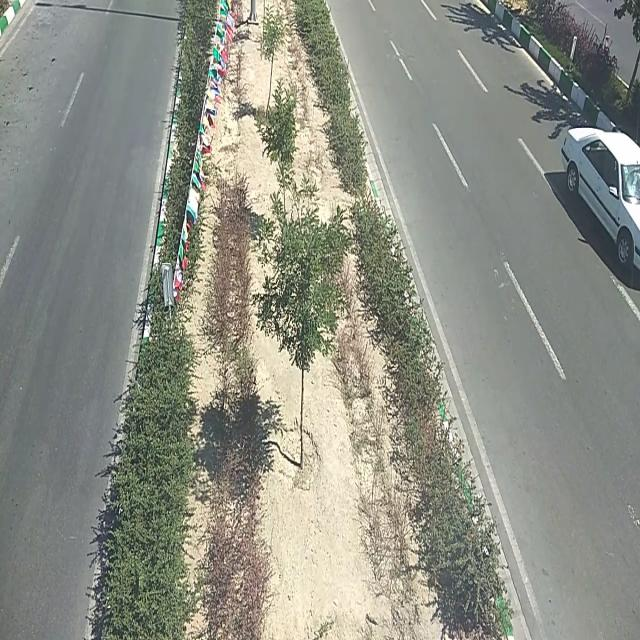car: (559, 118, 640, 270)
